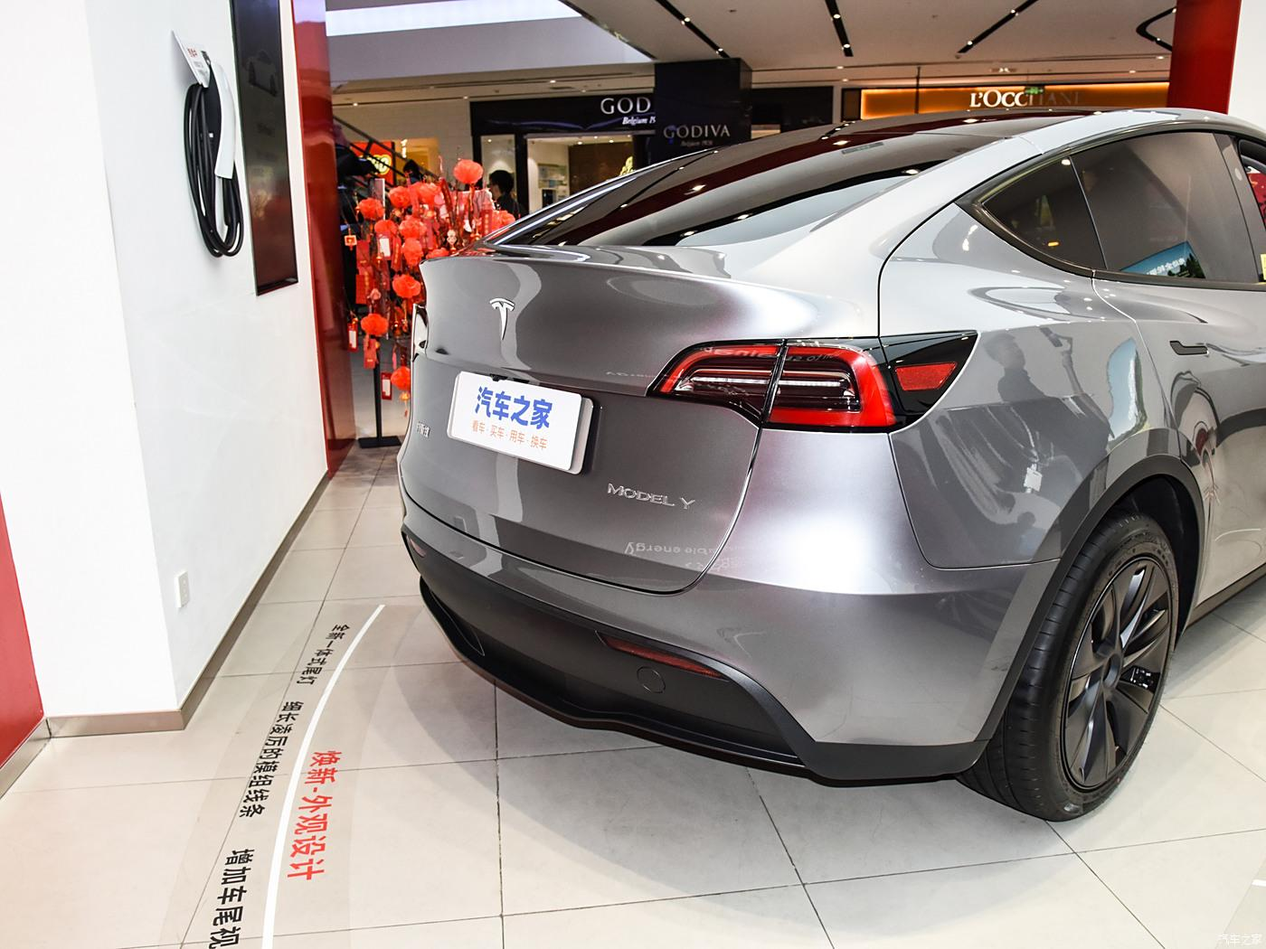Tesla: (487, 297, 515, 341)
